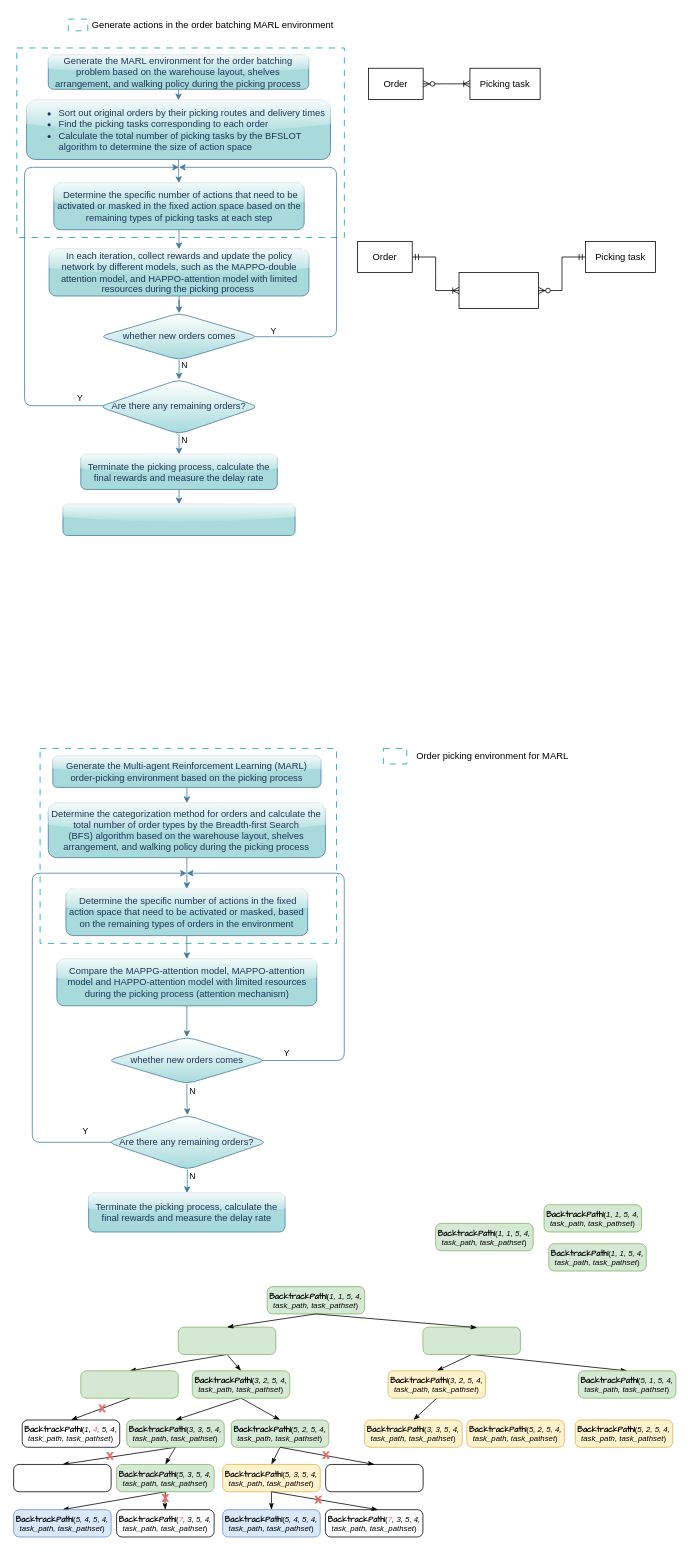
The diagram is 690 pixels wide and 1551 high, and some of its shapes have lost their labels. Here are the shapes that lost their labels. From the top down, the box of each, then its label:
(458, 272, 539, 308): Picking task for each order
(62, 503, 295, 535): Compare the results of MAPPO-double attention model and HAPPO-attention model
(178, 1326, 276, 1354): BacktrackPath1 ( 1, 2, 5, 4, task_path, task_pathset )
(422, 1326, 520, 1354): BacktrackPath1 ( 3, 1, 5, 4, task_path, task_pathset )
(80, 1370, 178, 1398): BacktrackPath1 ( 1, 3, 5, 4, task_path, task_pathset )
(13, 1464, 111, 1492): BacktrackPath1 ( 3, 4 , 5, 4, task_path, task_pathset )
(325, 1464, 423, 1492): BacktrackPath1 ( 7 , 2, 5, 4, task_path, task_pathset )
